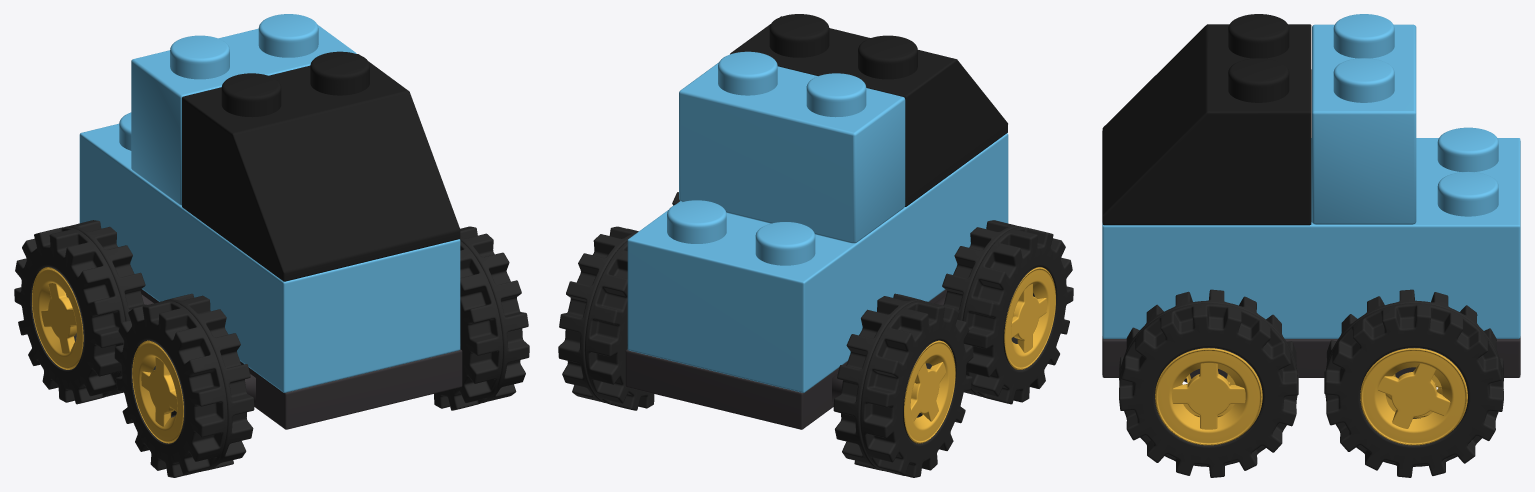
The model's file is junikastudio-toys-160.glb.
3 views of the same model, side by side, from view 1: azimuth 30°, elevation 25°; view 2: azimuth 150°, elevation 25°; view 3: azimuth 270°, elevation 25° (orthographic). The views are drawn at different scales.
Parts seen in each view (by area): view 1: Cylinder.002; view 2: Cylinder.002; view 3: Cylinder.002.
Boxes of the visible parts, <box> form: Cylinder.002: <box>14,14,529,477</box>; Cylinder.002: <box>558,14,1073,477</box>; Cylinder.002: <box>1102,14,1520,477</box>.
Bounding box in the file's own units: 0.0297 × 0.0294 × 0.032.
